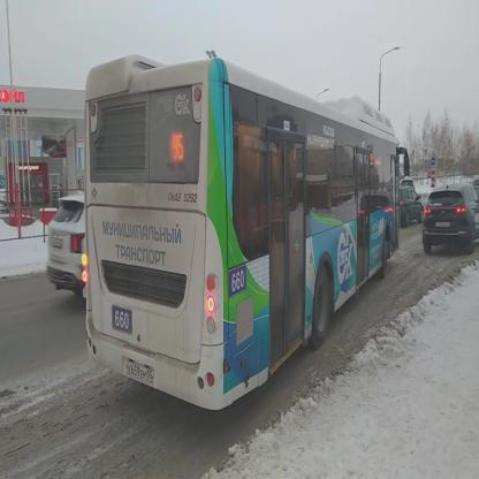bus: (85, 56, 408, 415)
car: (41, 191, 113, 294), (421, 182, 479, 258), (395, 183, 426, 223)
